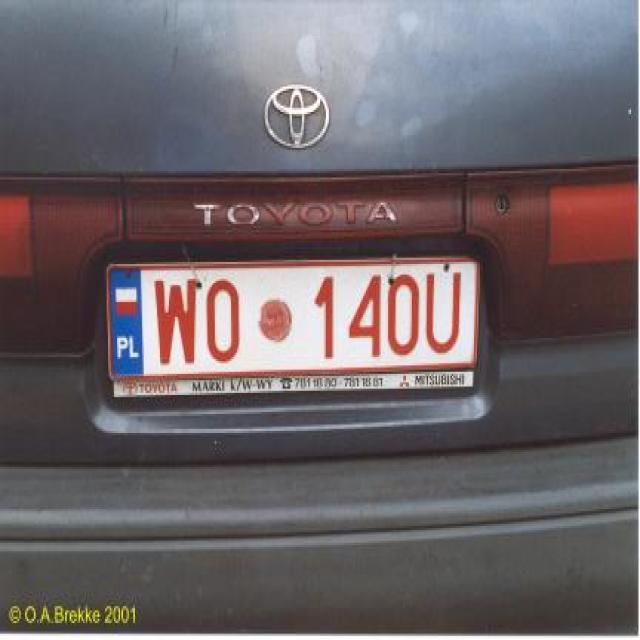pl_license_plate: (108, 266, 471, 372)
